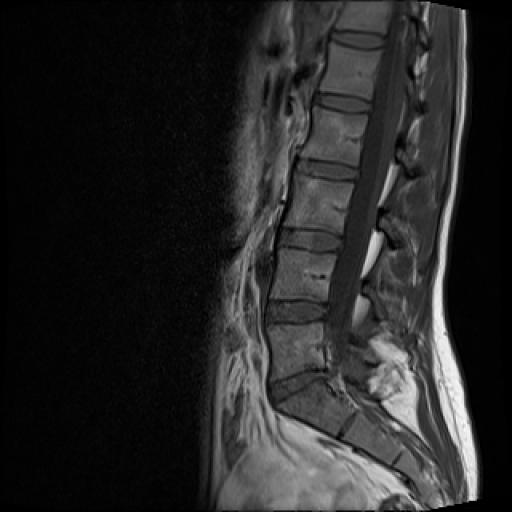L1: (318, 41, 385, 102)
L2: (302, 107, 367, 166)
L3: (283, 172, 353, 236)
L4: (270, 249, 336, 302)
L5: (267, 322, 326, 380)
S1: (277, 379, 358, 437)
